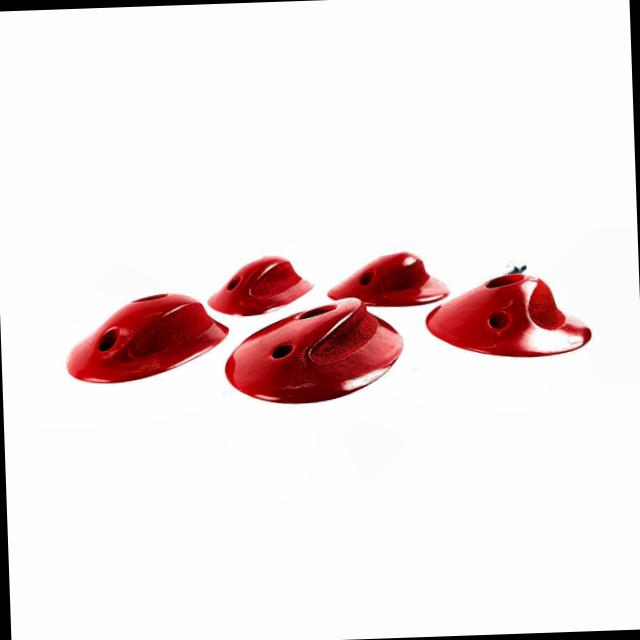Hold: (218, 305, 409, 401), (61, 287, 232, 387), (428, 262, 590, 358), (200, 232, 313, 314), (338, 243, 442, 306)
